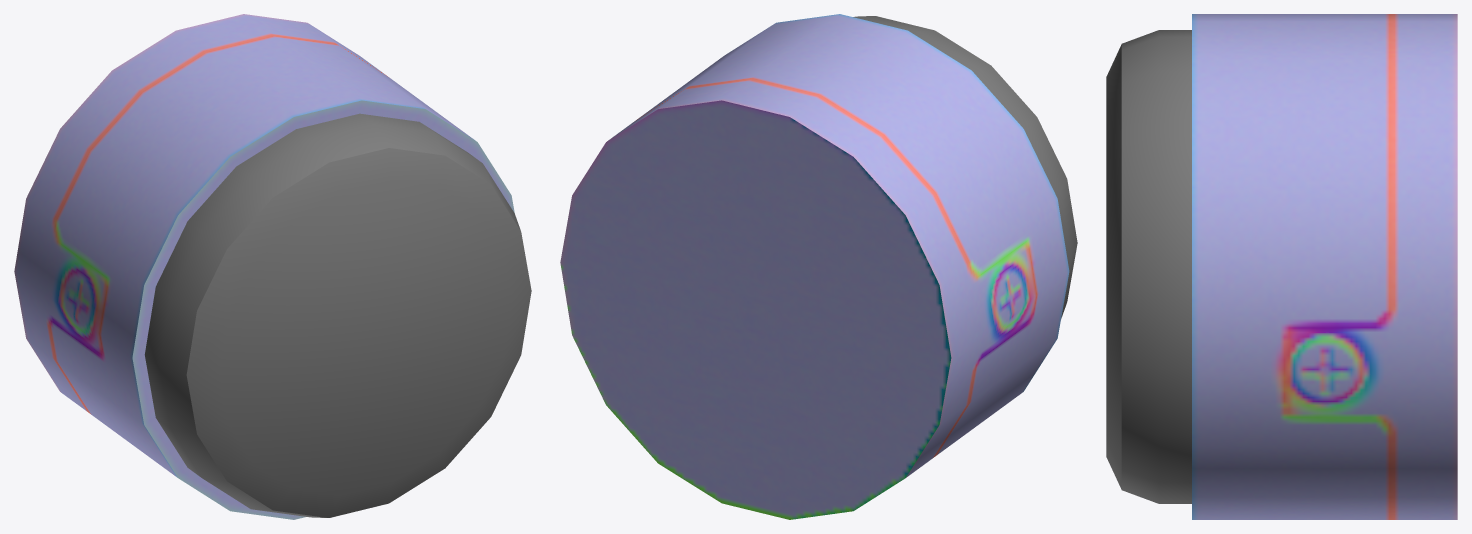
Rendered from LitLampA1.fbx.
3 renders of one model, left to right at view 1: azimuth 30°, elevation 25°; view 2: azimuth 150°, elevation 25°; view 3: azimuth 270°, elevation 25°, orthographic. The views are drawn at different scales.
Parts seen in each view (by area): view 1: LitLampA1; view 2: LitLampA1; view 3: LitLampA1.
Boxes of the visible parts, bbox=[...] form: LitLampA1: bbox=[14, 14, 531, 519]; LitLampA1: bbox=[560, 14, 1077, 519]; LitLampA1: bbox=[1106, 14, 1457, 519].
Bounding box in the file's own units: 19.85 × 19.55 × 13.73.
2 materials, 1 textured.
